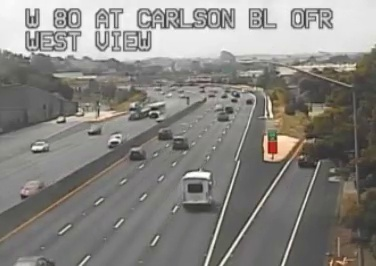bus: (180, 171, 213, 206)
car: (172, 136, 187, 151), (129, 147, 145, 160), (158, 128, 172, 140)
